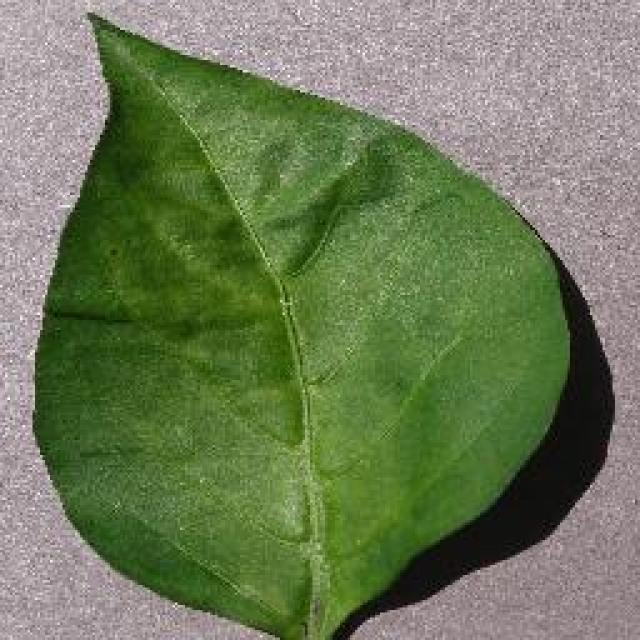Chilli_Healthy: (30, 8, 572, 638)
